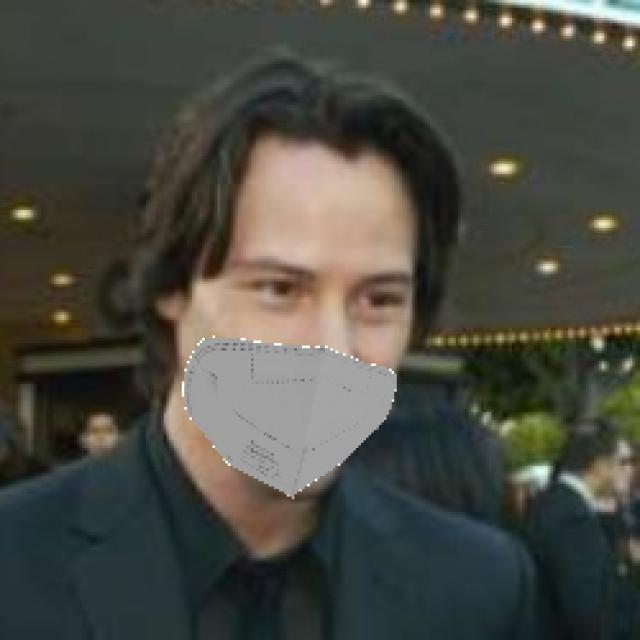mask: (172, 304, 416, 531)
